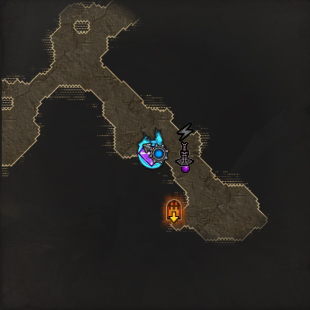Exit: (165, 197, 184, 224)
Urushi: (137, 129, 166, 170)
